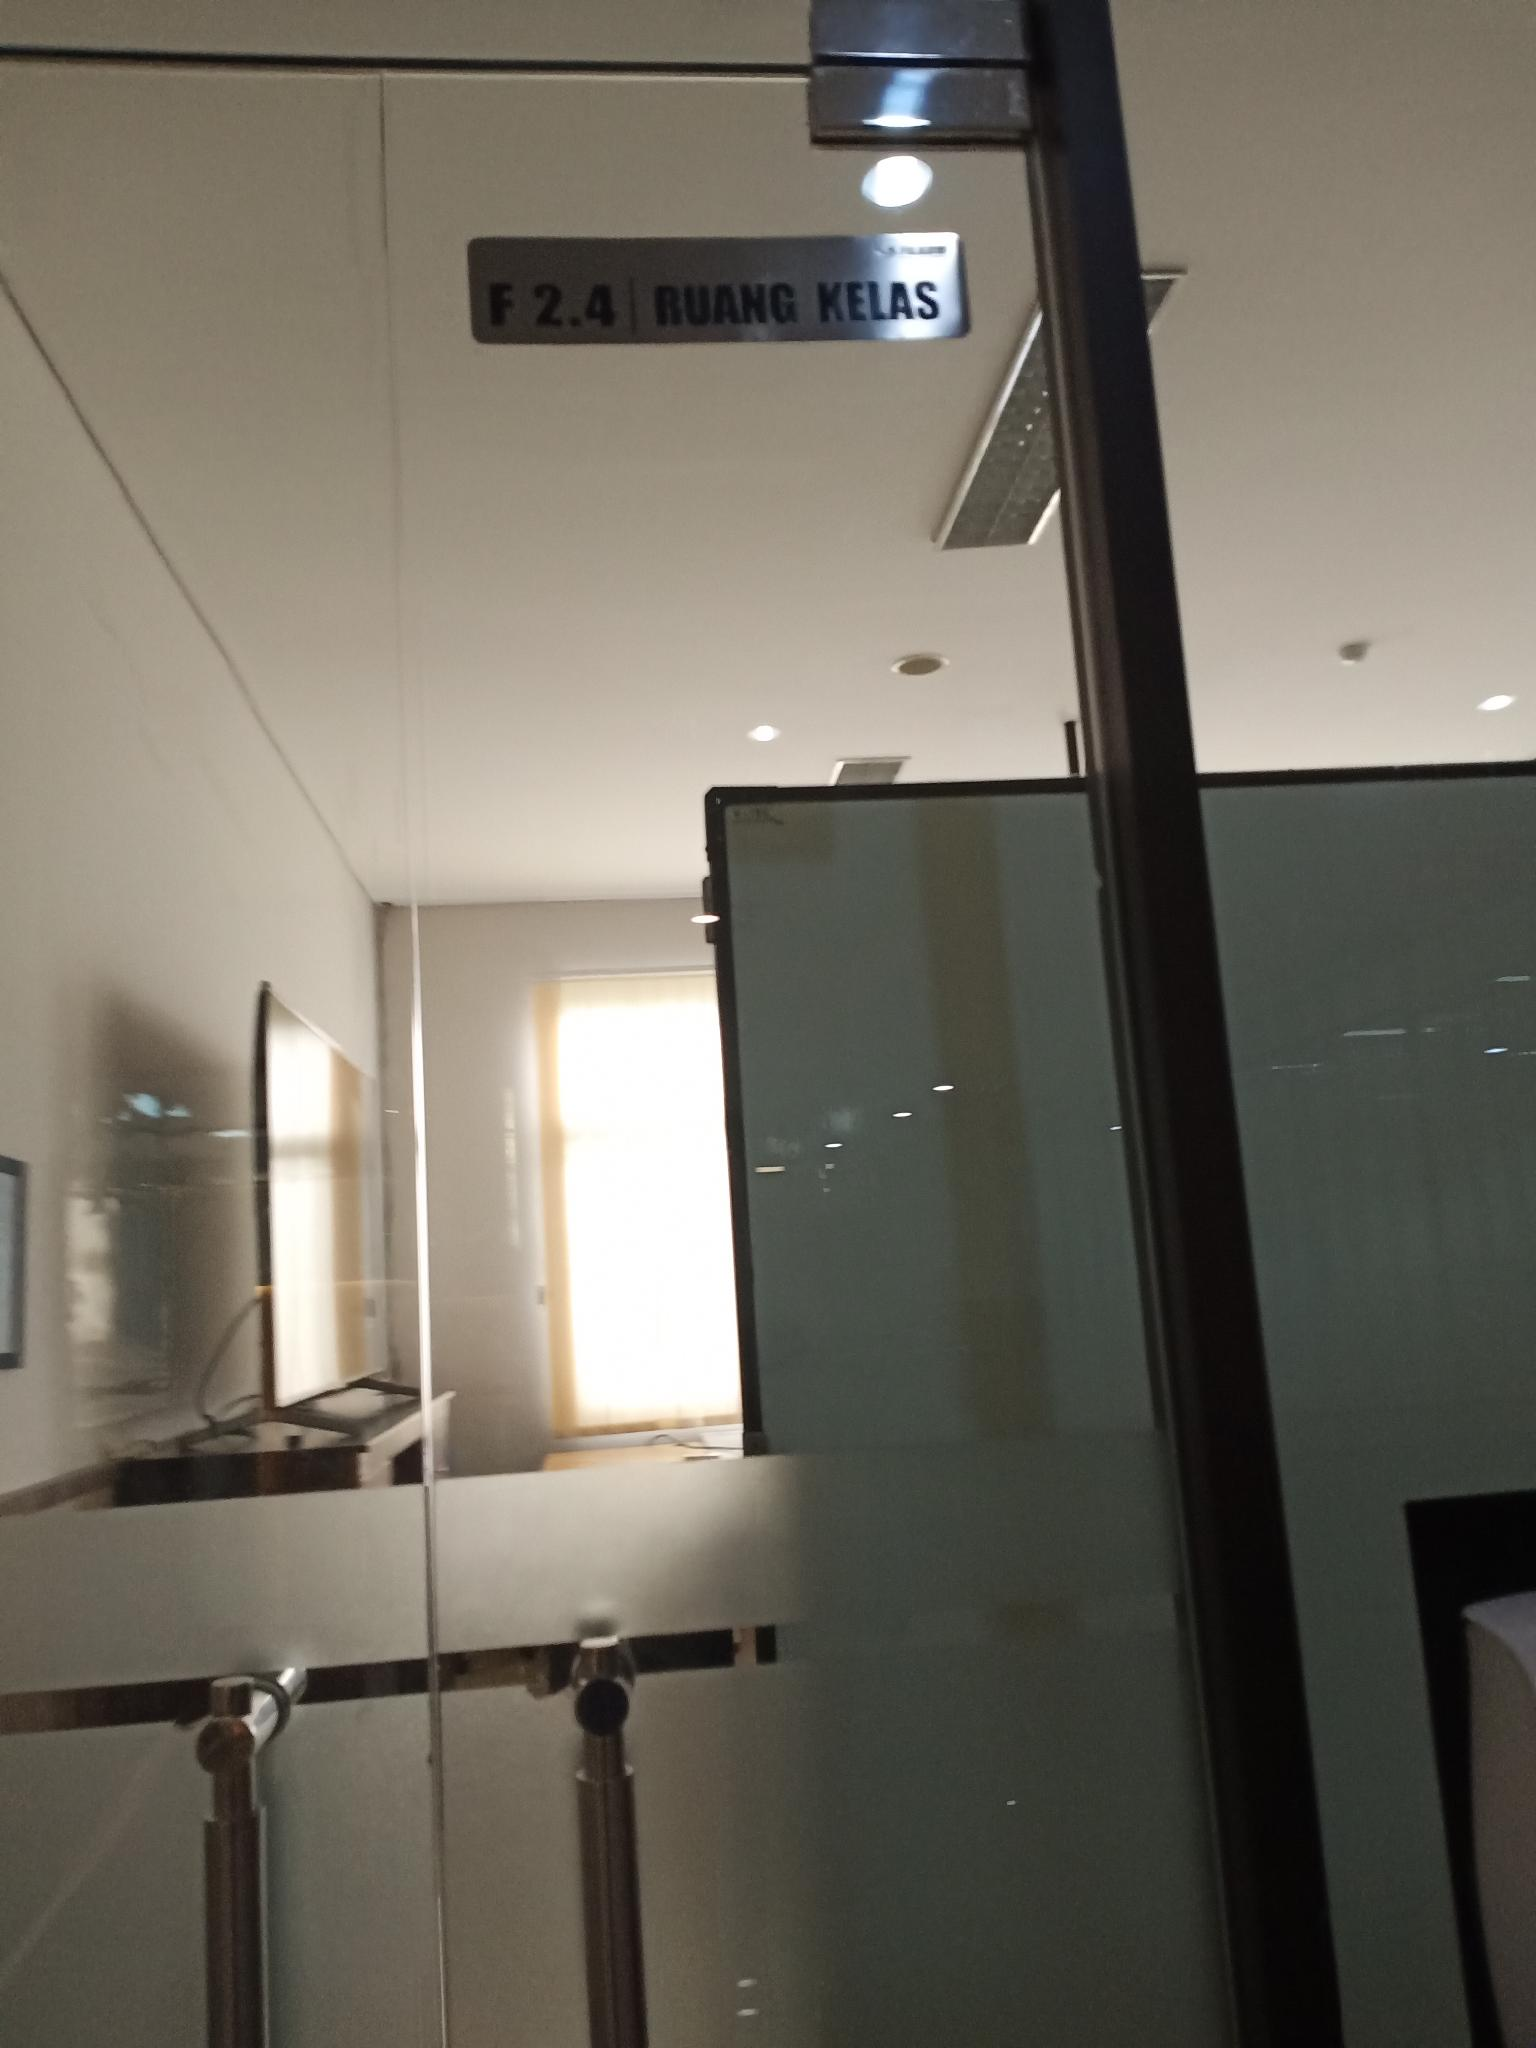plate: (463, 226, 976, 347)
